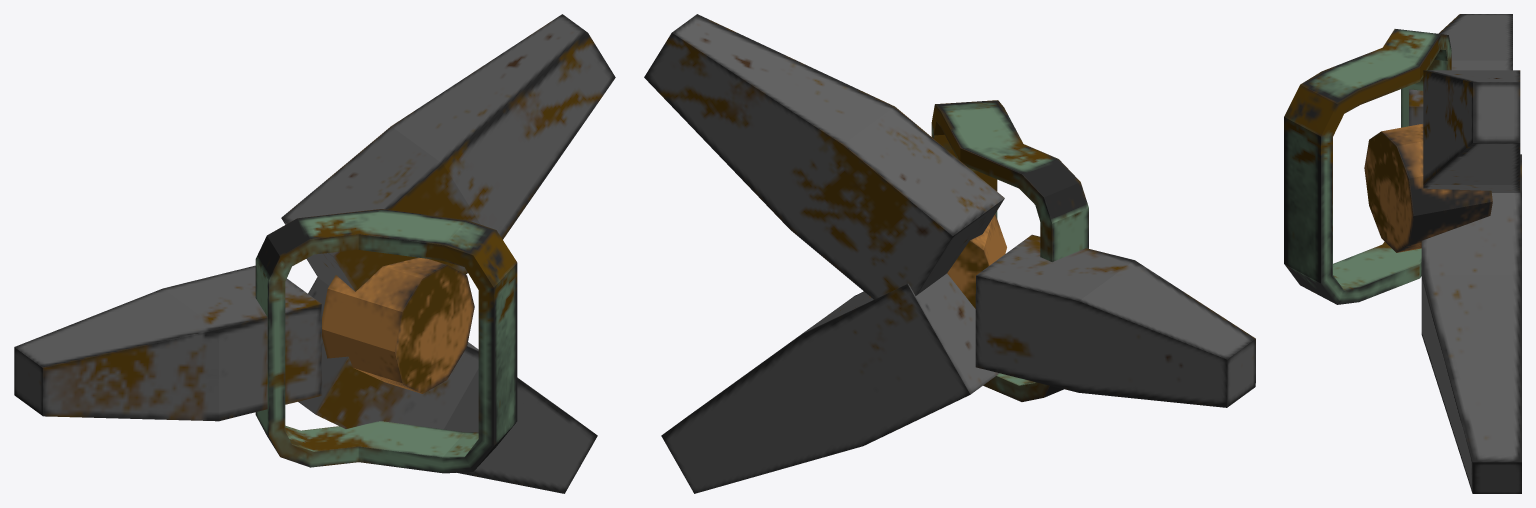
File: SM_Mech_FootR.obj
The picture shows the model from 3 angles, left to right: view 1: azimuth 30°, elevation 25°; view 2: azimuth 150°, elevation 25°; view 3: azimuth 270°, elevation 25°; orthographic projection. The views are drawn at different scales.
Visible parts, largest first — view 1: SM_Mech_FootR; view 2: SM_Mech_FootR; view 3: SM_Mech_FootR.
Part boxes in pixels (x1,y1,x2,y2): SM_Mech_FootR: (14,14,615,493); SM_Mech_FootR: (644,14,1255,493); SM_Mech_FootR: (1284,14,1521,493).
Bounding box in the file's own units: 142 × 107 × 54.48.
Materials: 1 (1 with a texture image).
